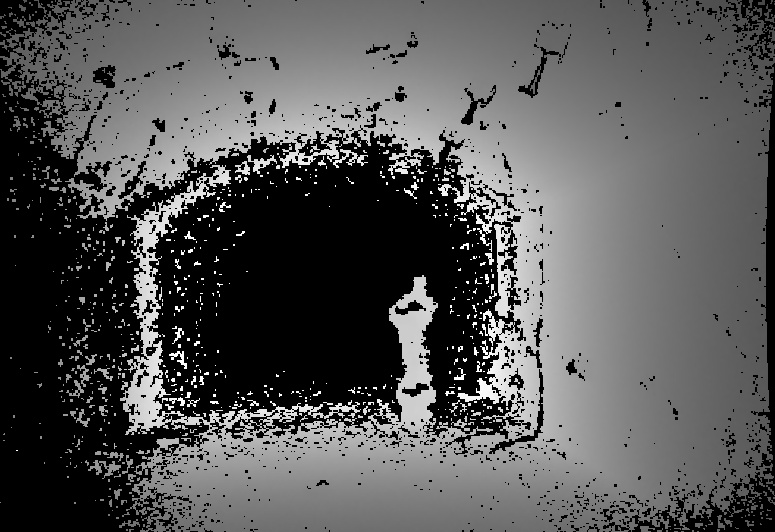person: (386, 276, 438, 423)
